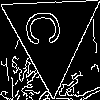C: (26, 9, 68, 47)
